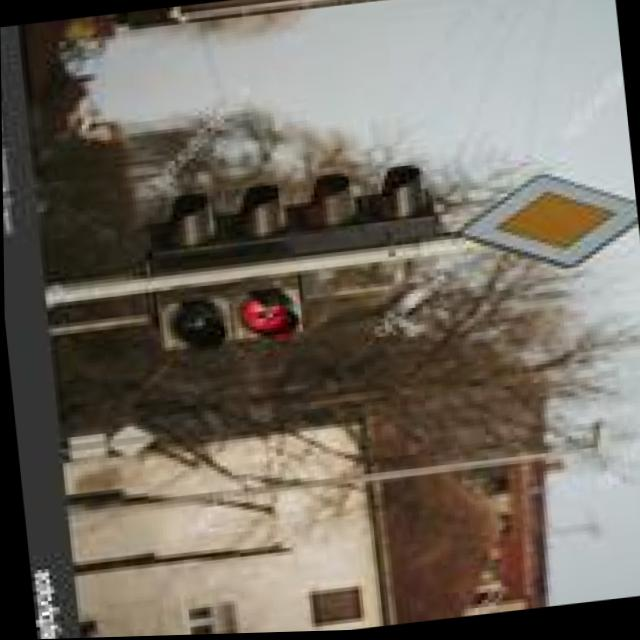red_light: (233, 276, 306, 357)
